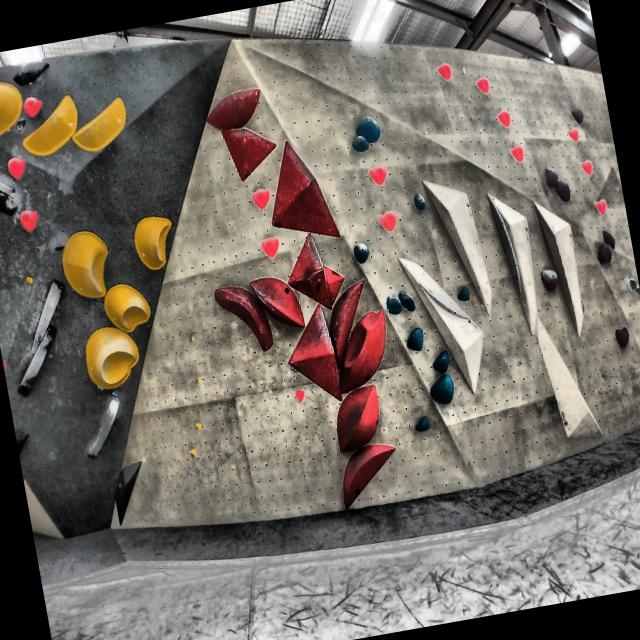Hold: (256, 132, 340, 250), (278, 302, 344, 406), (328, 303, 397, 391), (210, 275, 274, 357), (54, 225, 119, 303), (335, 442, 405, 511), (327, 381, 389, 456), (14, 92, 82, 160), (319, 276, 375, 355), (79, 326, 145, 390), (67, 95, 133, 158), (217, 121, 281, 182), (246, 270, 306, 334), (128, 205, 176, 274), (288, 232, 329, 312), (100, 278, 154, 336), (198, 87, 267, 132), (0, 71, 28, 141), (10, 50, 58, 90), (313, 252, 347, 306), (426, 372, 460, 411), (347, 112, 383, 144), (17, 90, 46, 123), (403, 326, 430, 356), (550, 177, 578, 204), (245, 188, 273, 214), (16, 206, 44, 232), (375, 205, 401, 232), (2, 156, 30, 180), (381, 287, 403, 317), (541, 264, 563, 294), (349, 240, 374, 264), (593, 242, 616, 268), (600, 224, 620, 252), (431, 349, 454, 373), (493, 108, 516, 132), (398, 288, 419, 314), (252, 237, 284, 254), (614, 323, 634, 350), (365, 164, 389, 186), (410, 414, 434, 436), (434, 56, 454, 82), (538, 162, 560, 185), (350, 133, 374, 152), (508, 142, 528, 162), (472, 76, 493, 94), (570, 105, 586, 128), (594, 197, 610, 220), (456, 282, 474, 302), (566, 128, 584, 146), (294, 386, 310, 404), (580, 158, 596, 174), (410, 194, 424, 211)
